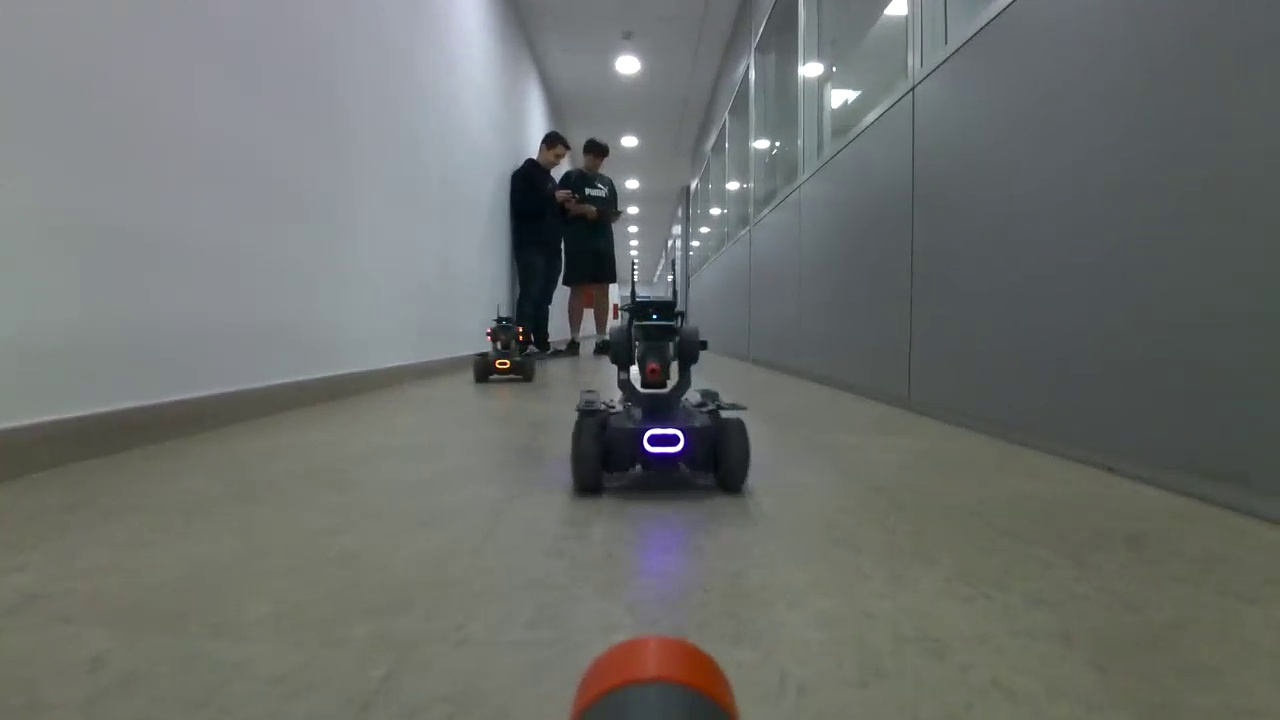robot: (571, 296, 751, 499), (473, 316, 538, 388)
